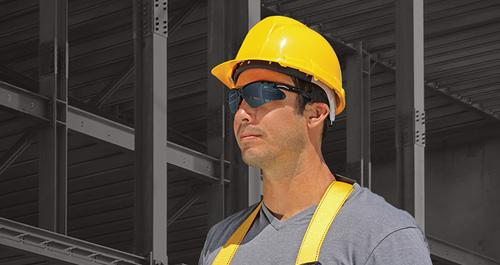helmet: (212, 17, 347, 113)
